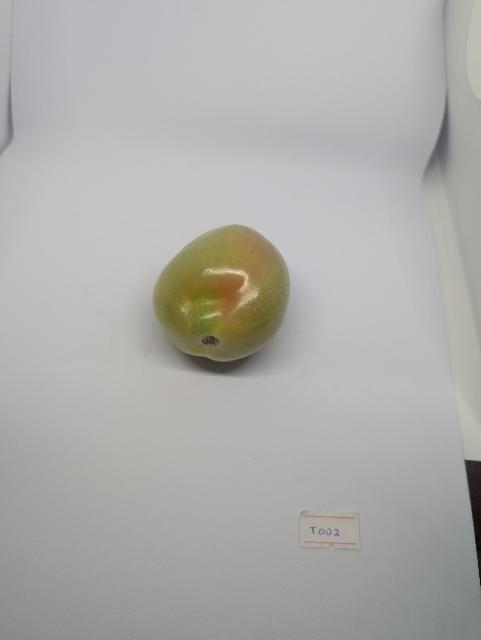breaker: (151, 222, 294, 368)
